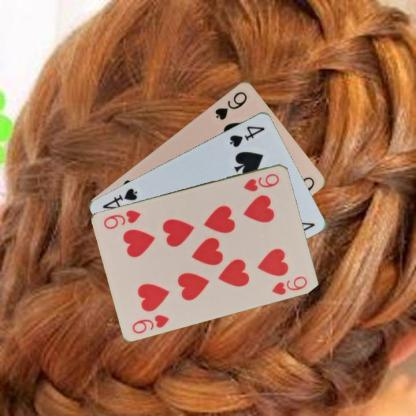4s: (227, 123, 266, 149)
9h: (129, 312, 171, 334), (240, 170, 281, 192)
9s: (212, 88, 248, 122)
